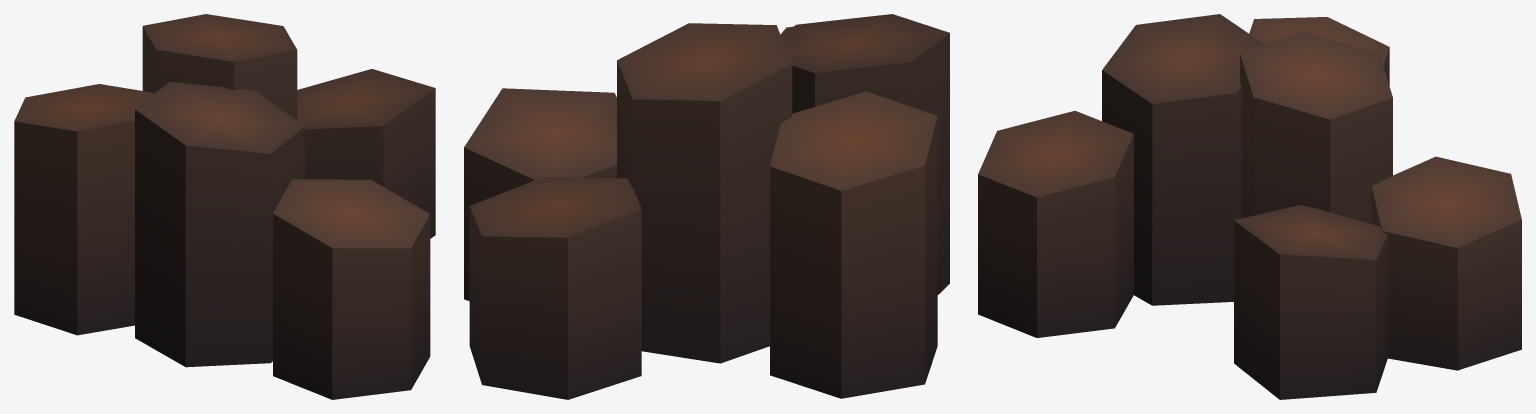
The model's file is columnar.lod2.glb.
The picture shows the model from 3 angles, left to right: view 1: azimuth 30°, elevation 25°; view 2: azimuth 150°, elevation 25°; view 3: azimuth 270°, elevation 25°; orthographic projection. The views are drawn at different scales.
Parts seen in each view (by area): view 1: columnar_s1_lod2; view 2: columnar_s1_lod2; view 3: columnar_s1_lod2.
Boxes of the visible parts, bbox=[...] form: columnar_s1_lod2: bbox=[14, 14, 435, 399]; columnar_s1_lod2: bbox=[464, 14, 949, 399]; columnar_s1_lod2: bbox=[978, 14, 1521, 399].
Size of the model in its own units: 1.59 by 0.9292 by 1.91.
